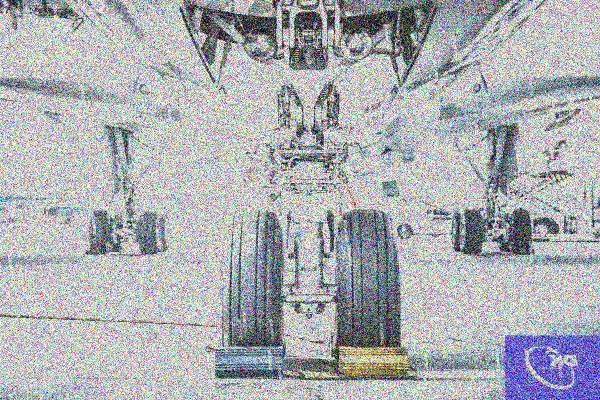chock: (337, 344, 412, 378), (213, 343, 283, 377), (83, 247, 110, 257), (511, 247, 536, 256)
wheel: (217, 208, 286, 375), (335, 209, 405, 361), (497, 207, 534, 253), (453, 207, 485, 253), (89, 208, 120, 254), (140, 208, 171, 253), (108, 211, 127, 252), (531, 217, 559, 241), (497, 210, 513, 251), (157, 209, 172, 251), (451, 209, 464, 251), (325, 208, 336, 255), (286, 208, 296, 254), (397, 223, 413, 239)
